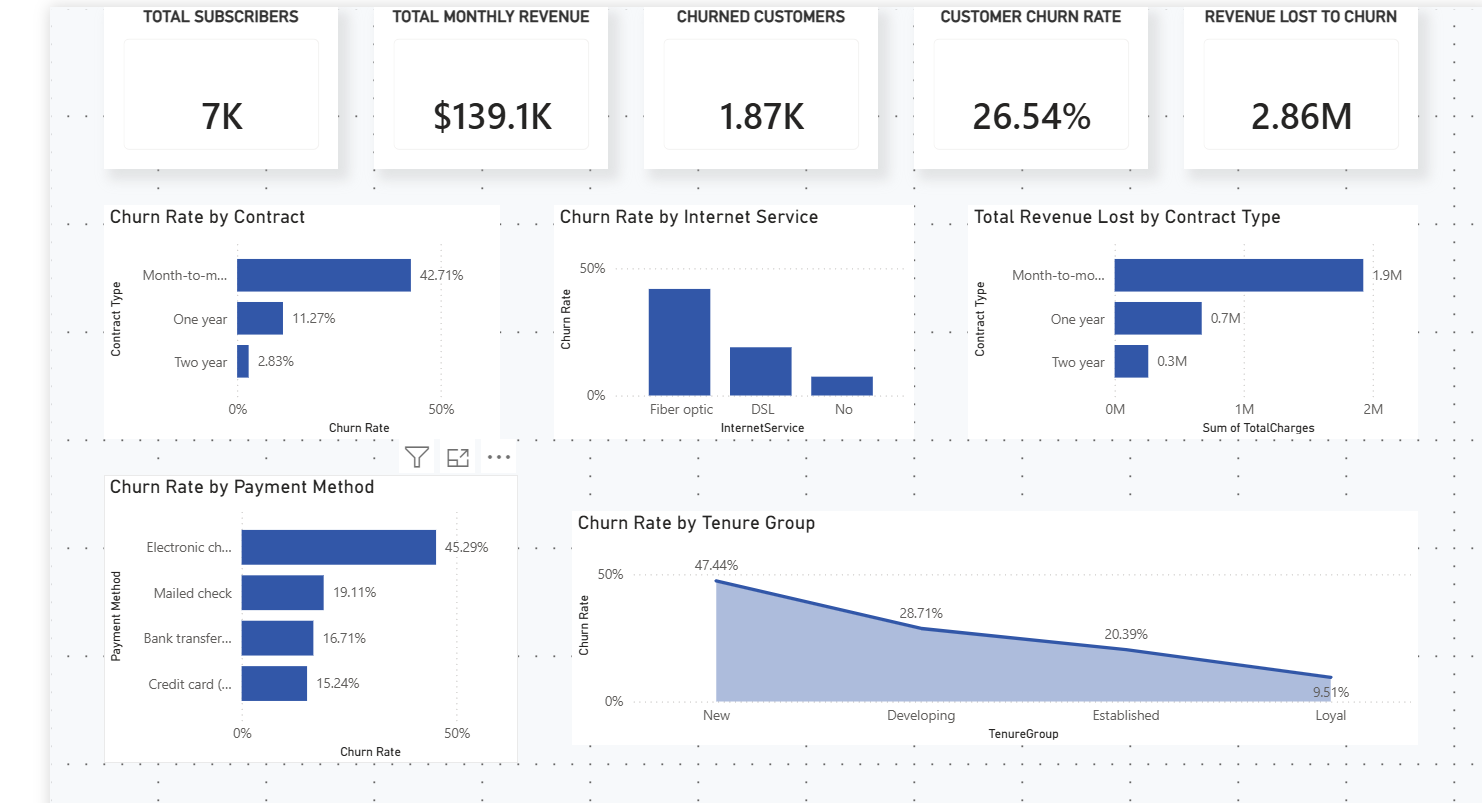

What the dashboard file says about the page in this screenshot:
{"tool":"powerbi","page":{"name":"Executive Churn Overview","canvas":[1280,720],"ordinal":0},"visuals":[{"type":"cardVisual","title":"TOTAL SUBSCRIBERS","fields":{"Data":["Customer_churn.Total Subscribers"]},"box":[48,0,208,144],"z":0},{"type":"cardVisual","title":"CHURNED CUSTOMERS","fields":{"Data":["Customer_churn.Total Churn Events"]},"box":[528,0,208,144],"z":1000},{"type":"cardVisual","title":"TOTAL MONTHLY REVENUE","fields":{"Data":["Customer_churn.Churned Revenue"]},"box":[288,0,208,144],"z":2000},{"type":"cardVisual","title":"CUSTOMER CHURN RATE","fields":{"Data":["Customer_churn.Churn Rate"]},"box":[768,0,208,144],"z":3000},{"type":"cardVisual","title":"REVENUE LOST TO CHURN","fields":{"Data":["Customer_churn.Revenue Lost to Churn"]},"box":[1008,0,208,144],"z":4000},{"type":"clusteredBarChart","fields":{"Category":["Customer_churn.Contract"],"Y":["Customer_churn.Churn Rate"]},"box":[48,176,352,208],"z":5000},{"type":"barChart","title":"Churn Rate by Payment Method","fields":{"Y":["Customer_churn.Churn Rate"],"Category":["Customer_churn.PaymentMethod"]},"box":[48,416,368,256],"z":6000},{"type":"areaChart","title":"Churn Rate by Tenure Group","fields":{"Category":["Customer_churn.TenureGroup"],"Y":["Customer_churn.Churn Rate"]},"box":[464,448,752,208],"z":7000},{"type":"barChart","title":"Total Revenue Lost by Contract Type","fields":{"Category":["Customer_churn.Contract"],"Y":["Sum(Customer_churn.TotalCharges)"]},"box":[816,176,400,208],"z":8000},{"type":"columnChart","title":"Churn Rate by Internet Service","fields":{"Category":["Customer_churn.InternetService"],"Y":["Customer_churn.Churn Rate"]},"box":[448,176,320,208],"z":9000}]}

Visuals, with their boxes on the page's 1280x720 design canvas (x1, y1, x2, y2). These are canvas units, not pixel positions in the 1482x803 screenshot, which may show the page scaled, cropped or inside an application window:
"TOTAL SUBSCRIBERS" cardVisual: [left=48, top=0, right=256, bottom=144]
"CHURNED CUSTOMERS" cardVisual: [left=528, top=0, right=736, bottom=144]
"TOTAL MONTHLY REVENUE" cardVisual: [left=288, top=0, right=496, bottom=144]
"CUSTOMER CHURN RATE" cardVisual: [left=768, top=0, right=976, bottom=144]
"REVENUE LOST TO CHURN" cardVisual: [left=1008, top=0, right=1216, bottom=144]
clusteredBarChart - Customer_churn.Contract x Customer_churn.Churn Rate: [left=48, top=176, right=400, bottom=384]
"Churn Rate by Payment Method" barChart: [left=48, top=416, right=416, bottom=672]
"Churn Rate by Tenure Group" areaChart: [left=464, top=448, right=1216, bottom=656]
"Total Revenue Lost by Contract Type" barChart: [left=816, top=176, right=1216, bottom=384]
"Churn Rate by Internet Service" columnChart: [left=448, top=176, right=768, bottom=384]
